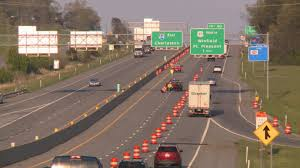barrel: (132, 145, 141, 159), (284, 123, 292, 135), (142, 140, 149, 152), (109, 158, 117, 168), (166, 115, 173, 124), (151, 134, 157, 144), (123, 152, 130, 160), (155, 128, 161, 137), (272, 117, 278, 126), (172, 107, 177, 116), (161, 122, 166, 130)
